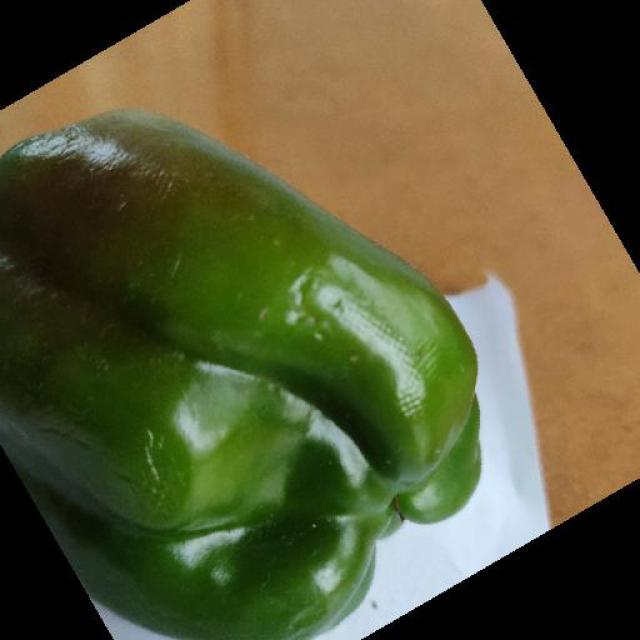Stale_Capsicum: (0, 98, 164, 432)
